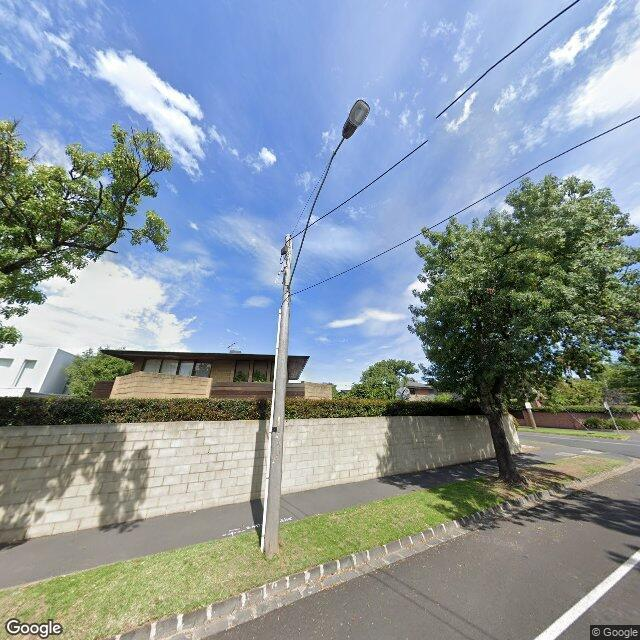streetlight: (286, 98, 370, 291)
timber-pole: (262, 234, 292, 559)
